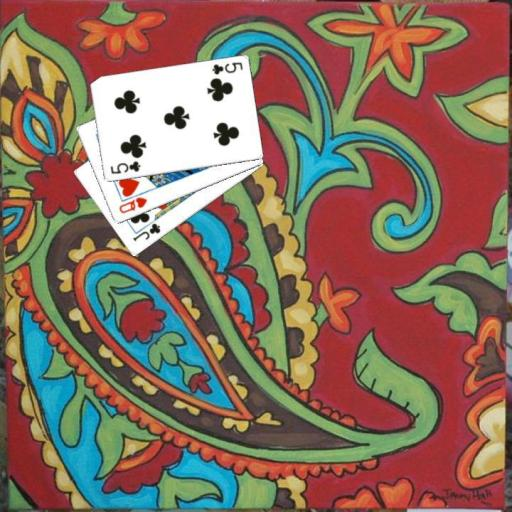5C: (108, 158, 142, 176), (208, 59, 244, 76)
JC: (130, 221, 162, 244)
QH: (116, 194, 149, 216)
